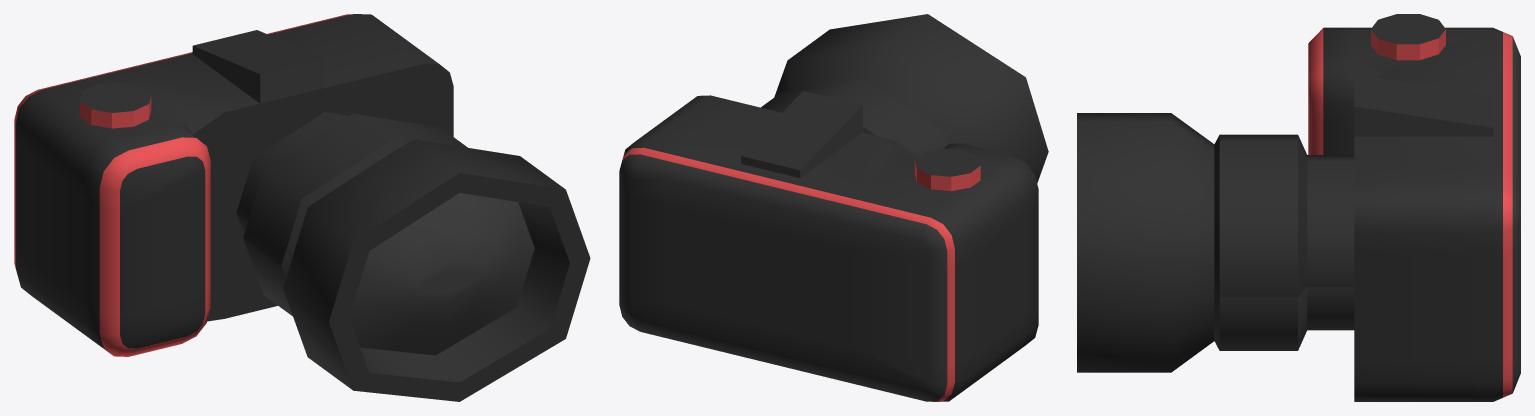
File: camera01.glb
3 renders of one model, left to right at view 1: azimuth 30°, elevation 25°; view 2: azimuth 150°, elevation 25°; view 3: azimuth 270°, elevation 25°, orthographic. The views are drawn at different scales.
Parts seen in each view (by area): view 1: Cube; view 2: Cube; view 3: Cube.
Boxes of the visible parts, box(x1,y1,x2,y2) form: Cube: box(14, 14, 590, 401); Cube: box(619, 14, 1048, 401); Cube: box(1077, 14, 1520, 401).
Size of the model in its own units: 1.94 by 1.22 by 1.95.
